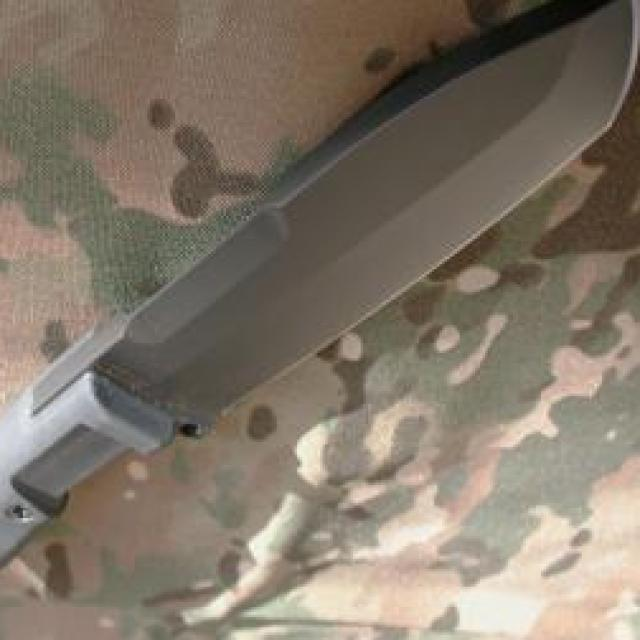knife: (58, 0, 640, 465)
